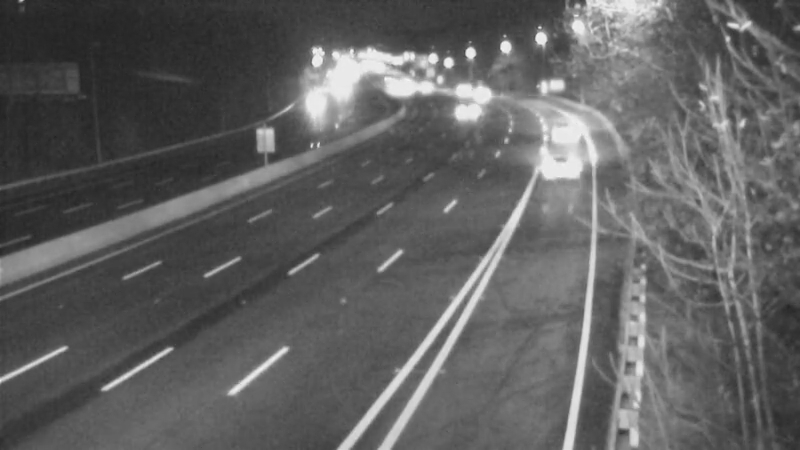vehicle: (523, 131, 603, 211), (436, 62, 486, 112), (456, 66, 506, 116), (437, 89, 487, 139), (528, 104, 578, 154), (288, 73, 338, 123)
